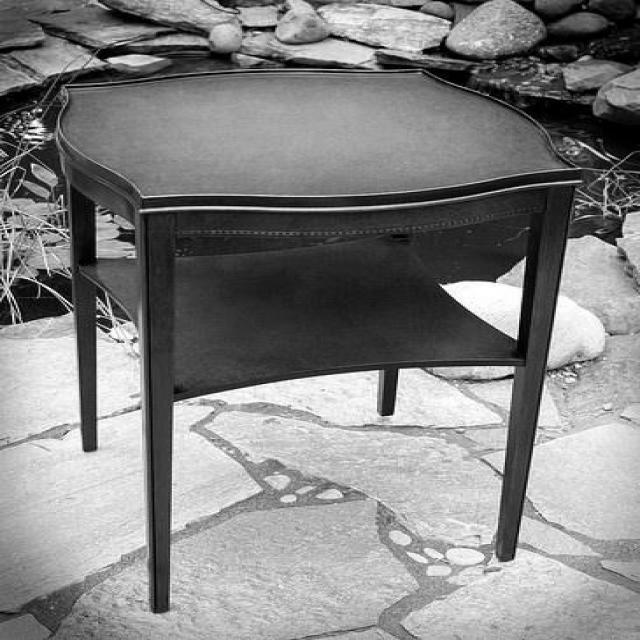table: (54, 72, 578, 614)
